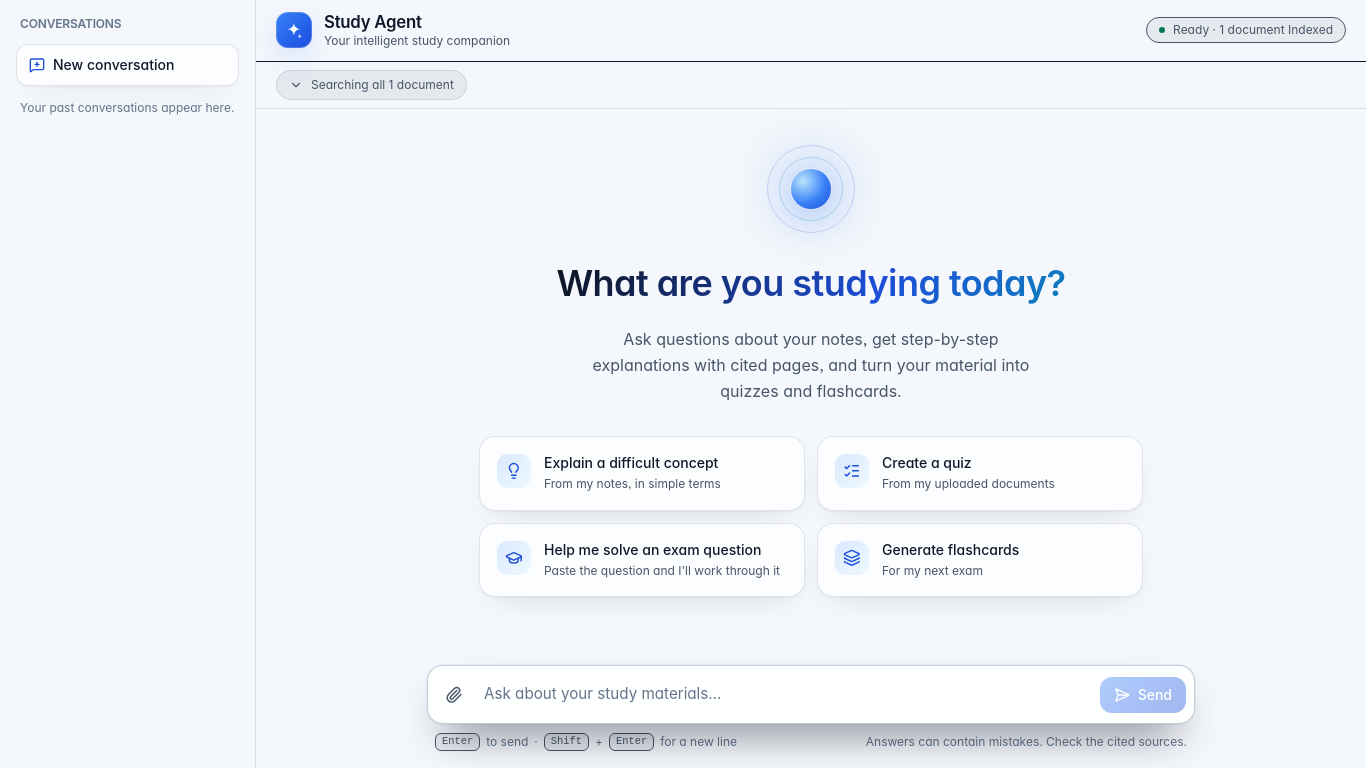
StudyChat › lets the student stop a running answer
In the text box named "Ask a question": [786, 694] box [478,674,1094,715], type "slow question"
Then press Enter
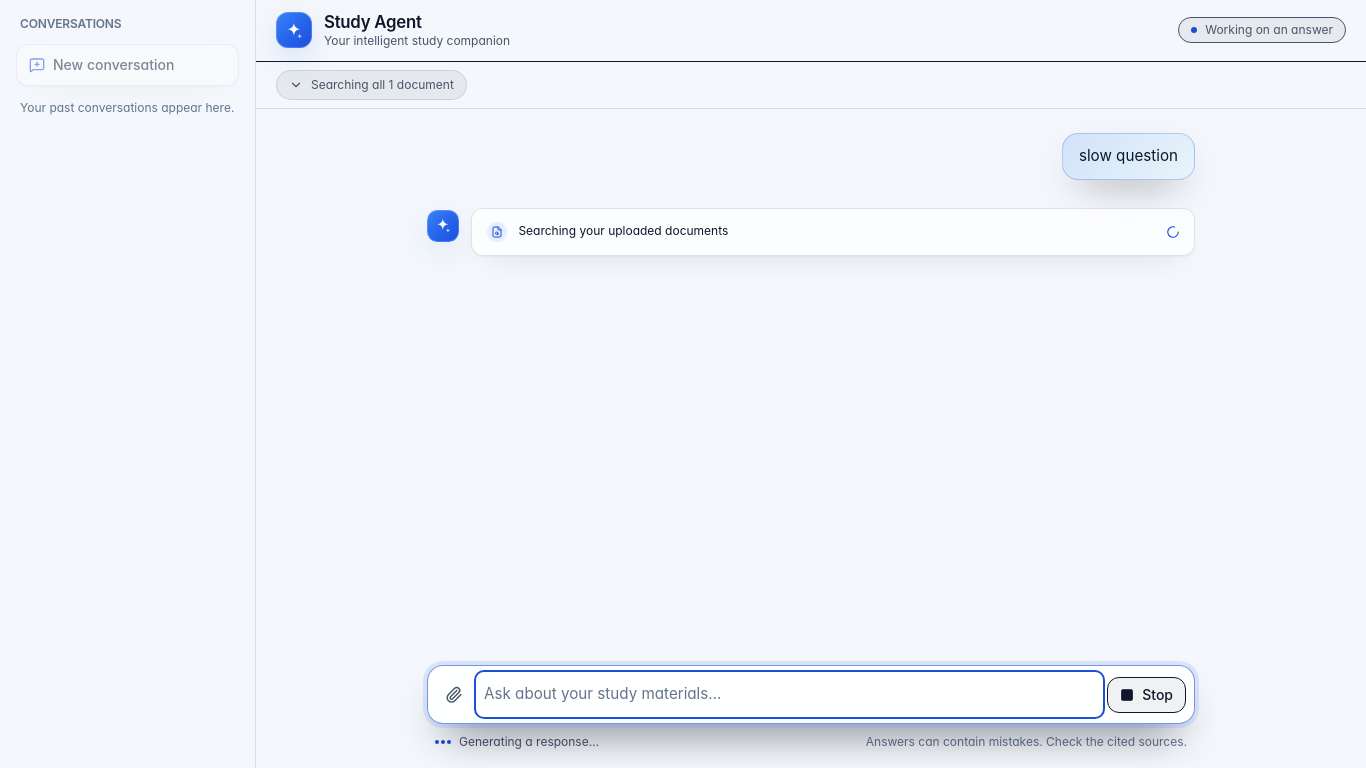
Click the button with aria-label "Stop generating": [1147, 695] box [1107,677,1186,713]
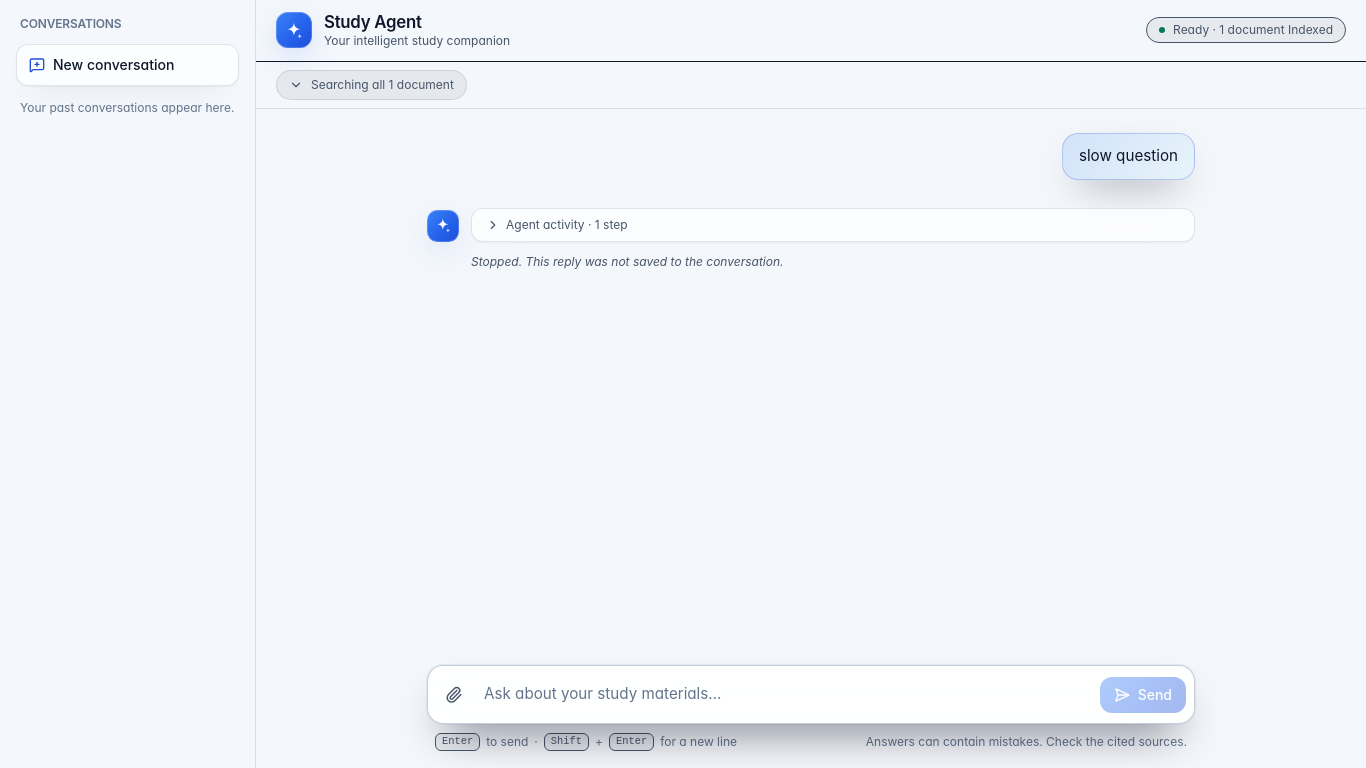
Result: the text "Stopped. This reply was not saved to the conversation." is shown at [471,254,784,269]
Result: the button with aria-label "Send message" is shown at [1100,677,1186,713]
